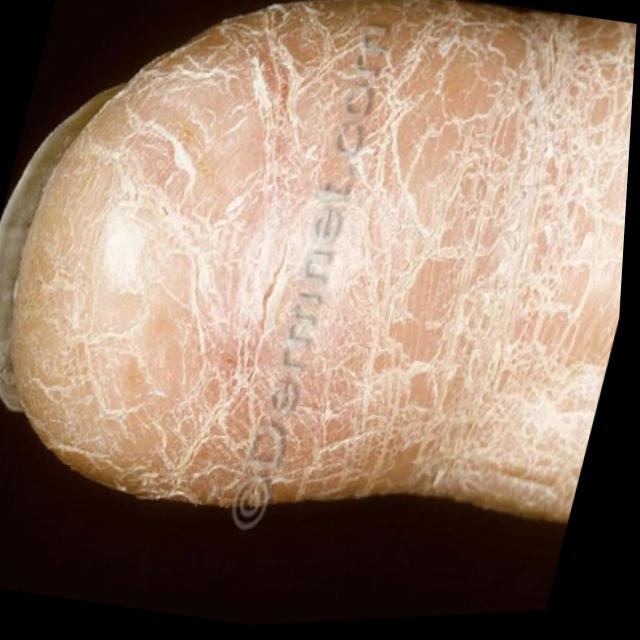Eczema: (59, 0, 640, 554)
